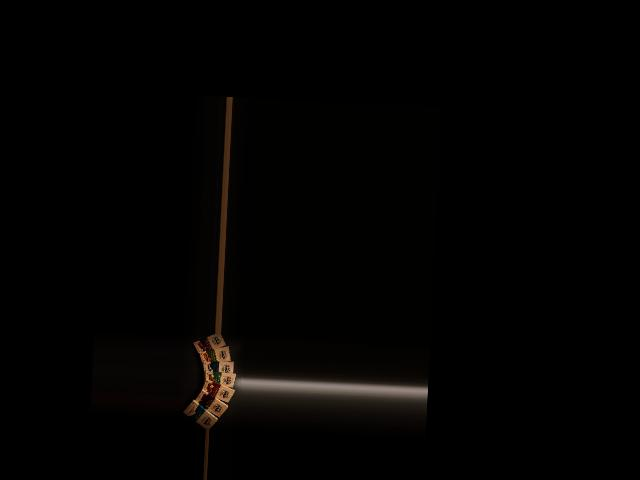chocolate: (179, 399, 220, 429)
